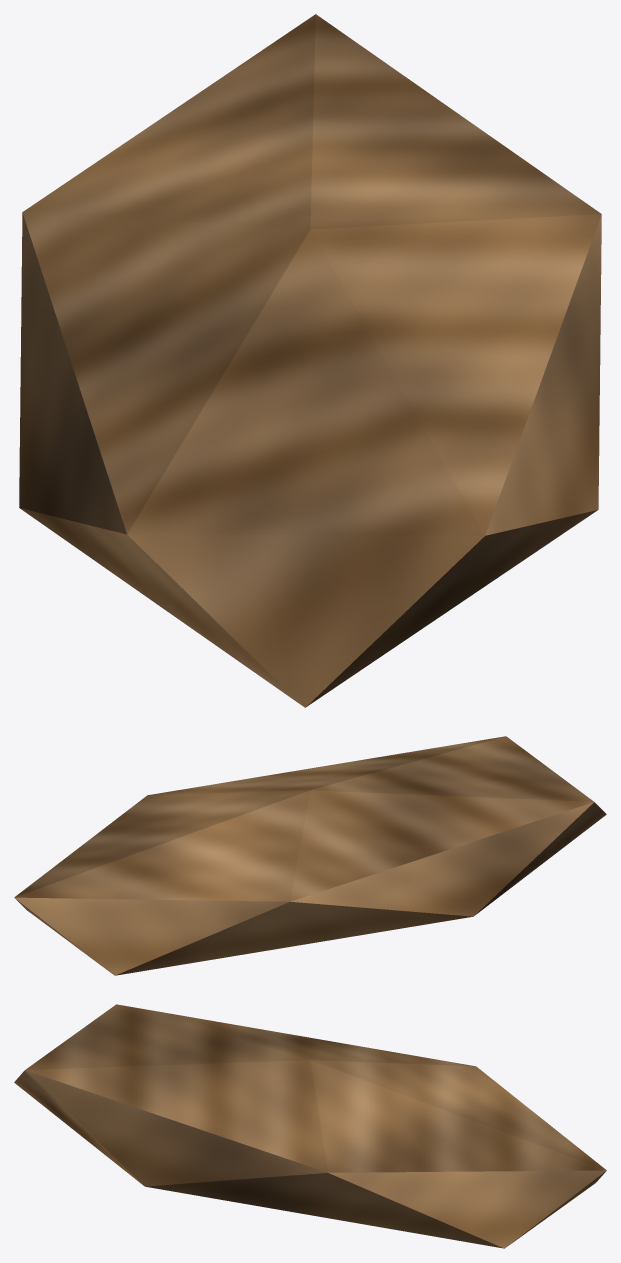
File: 2025_sandstone_talus_20.dae
3 renders of one model, top to bottom at view 1: azimuth 30°, elevation 25°; view 2: azimuth 150°, elevation 25°; view 3: azimuth 270°, elevation 25°, orthographic. The views are drawn at different scales.
Parts seen in each view (by area): view 1: Node; view 2: Node; view 3: Node.
Boxes of the visible parts, box(x1,y1,x2,y2) form: Node: box(19, 14, 601, 707); Node: box(14, 736, 606, 975); Node: box(14, 1004, 606, 1248).
Bounding box in the file's own units: 0.9053 × 1.23 × 0.303.
1 material, 1 textured.
